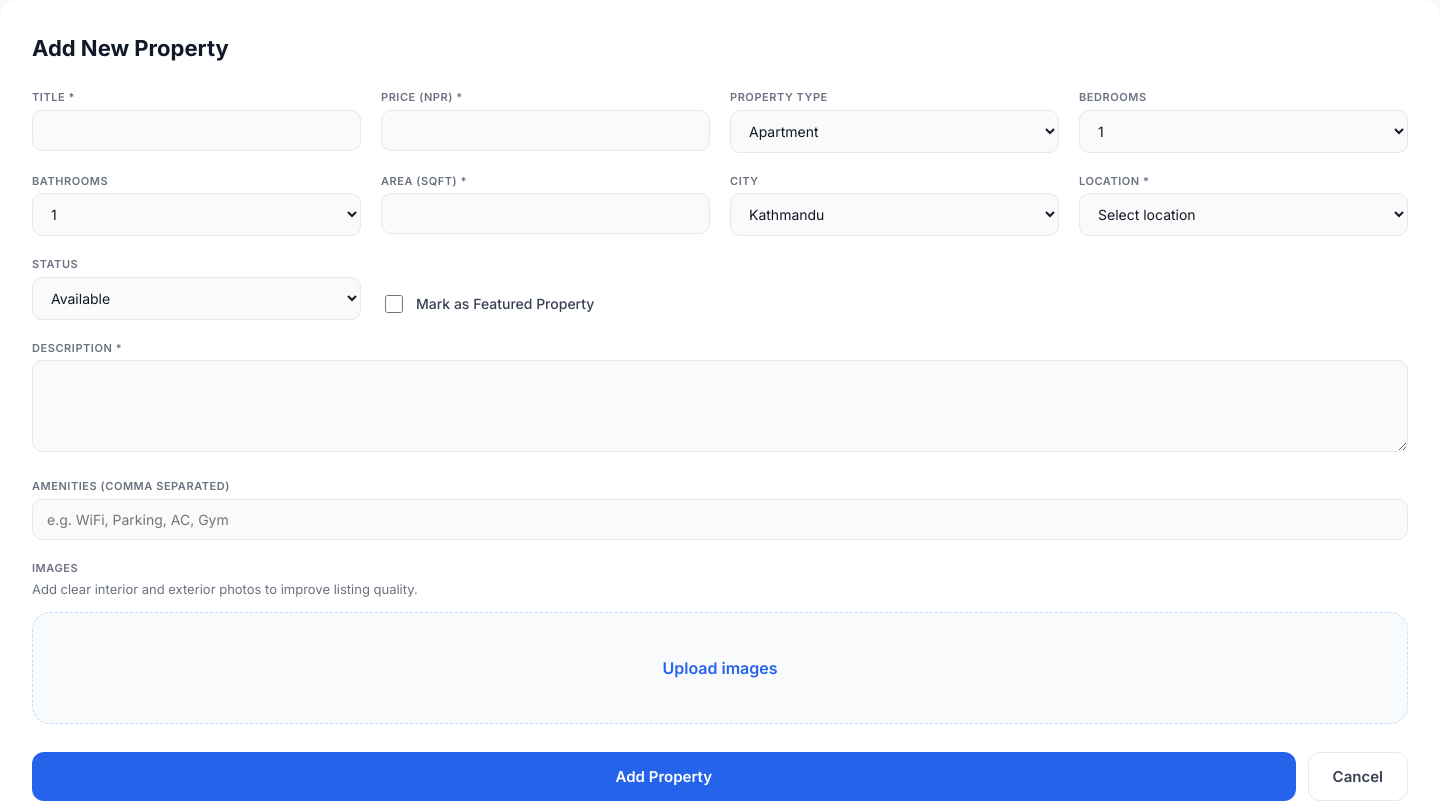
Test: PropertyForm › shows validation errors when submitting empty form
The width and height of the screenshot is (1440, 810).
Click the button "Add Property": (664, 776) [32,752,1296,800]
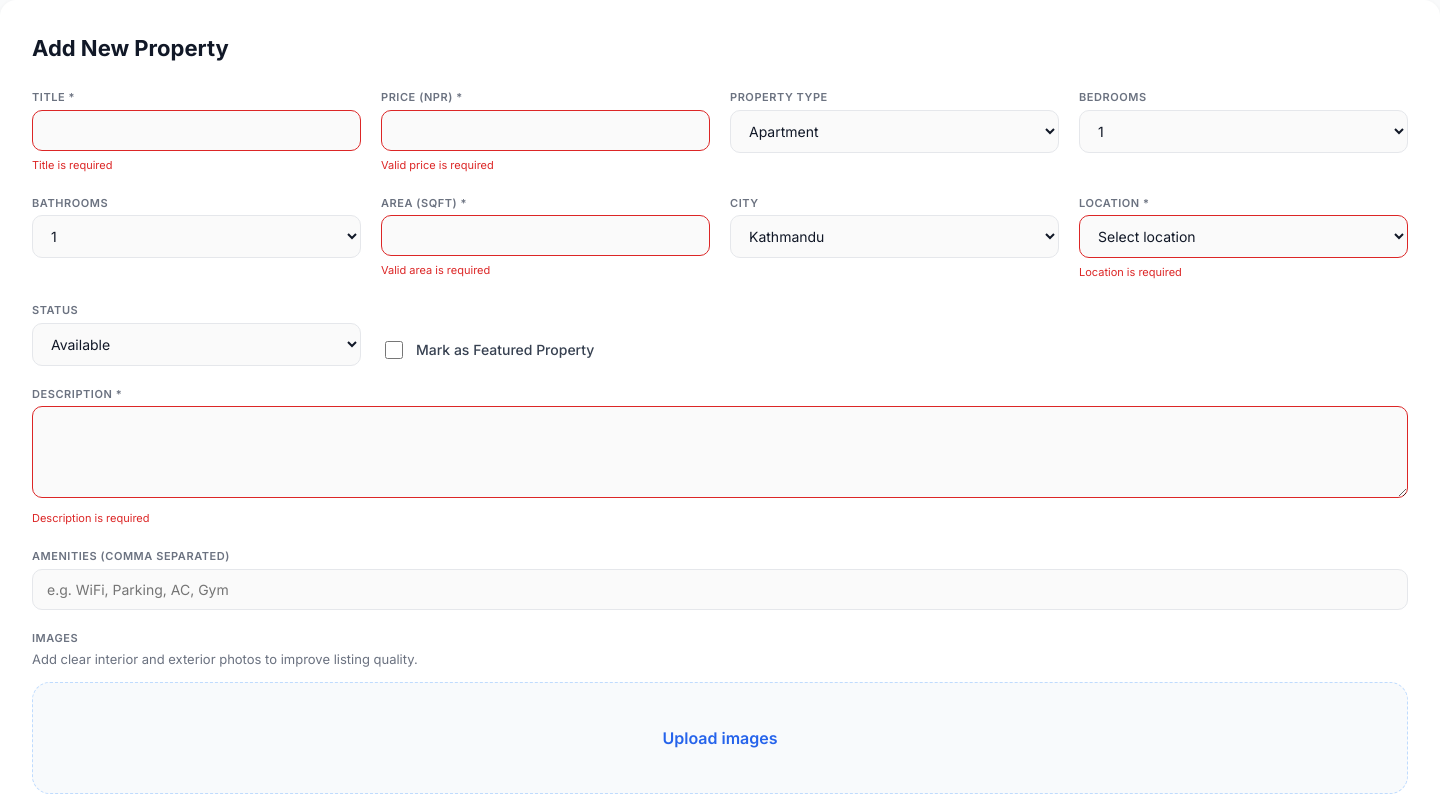
Now the text "Title is required" is shown, box [32,158,112,172]
Now the text "Description is required" is shown, box [32,511,150,525]
Now the text "Valid price is required" is shown, box [381,158,494,172]
